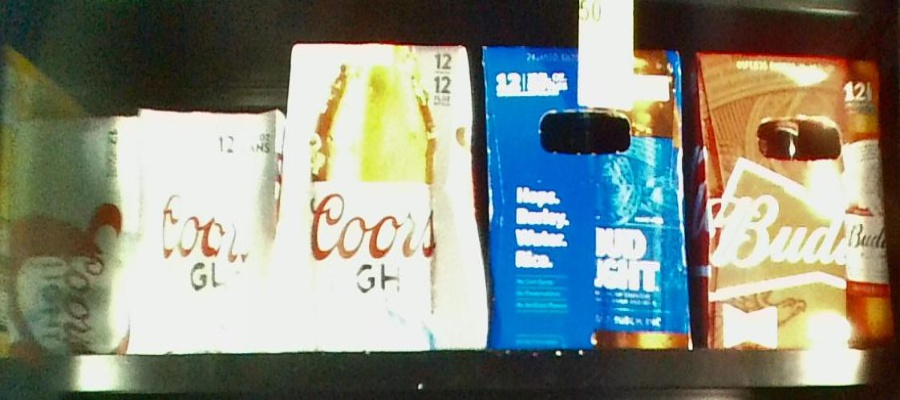bottle: (287, 37, 485, 356), (482, 48, 690, 349), (691, 52, 897, 345), (128, 103, 282, 356), (11, 108, 127, 353)
